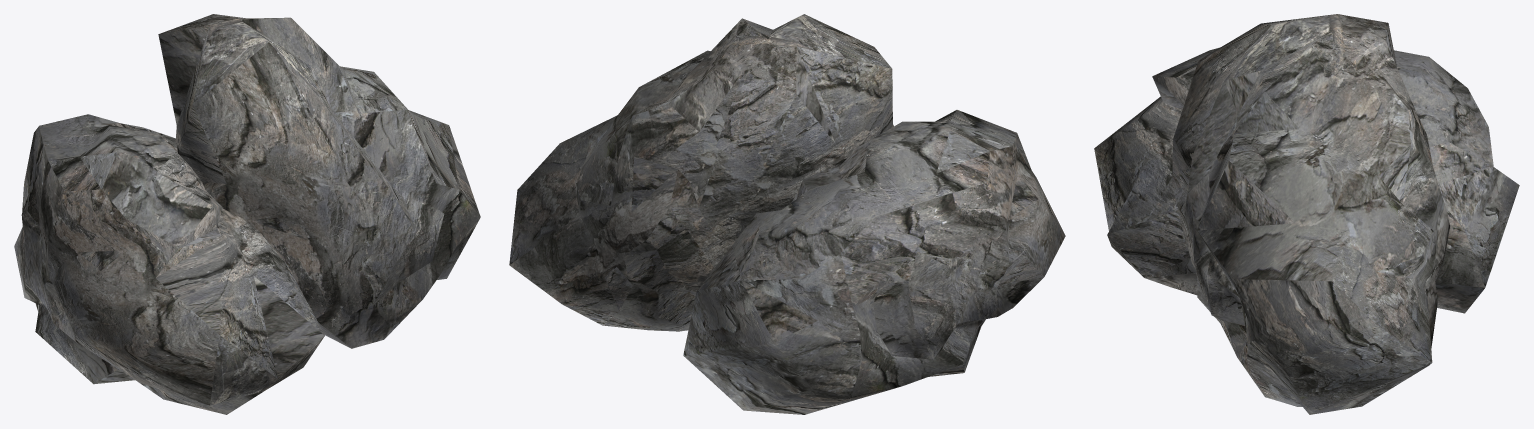
Rendered from kivi7.fbx.
3 views of the same model, side by side, from view 1: azimuth 30°, elevation 25°; view 2: azimuth 150°, elevation 25°; view 3: azimuth 270°, elevation 25° (orthographic). The views are drawn at different scales.
Visible parts, largest first — view 1: Icosphere_000, Icosphere_001; view 2: Icosphere_001, Icosphere_000; view 3: Icosphere_000, Icosphere_001.
Part boxes in pixels (x1,y1,x2,y2): Icosphere_000: (158, 14, 480, 348); Icosphere_001: (14, 114, 324, 414); Icosphere_001: (683, 110, 1065, 414); Icosphere_000: (509, 14, 893, 331); Icosphere_000: (1172, 14, 1449, 414); Icosphere_001: (1094, 47, 1519, 313).
Bounding box in the file's own units: 9.48 × 6.53 × 7.92.
